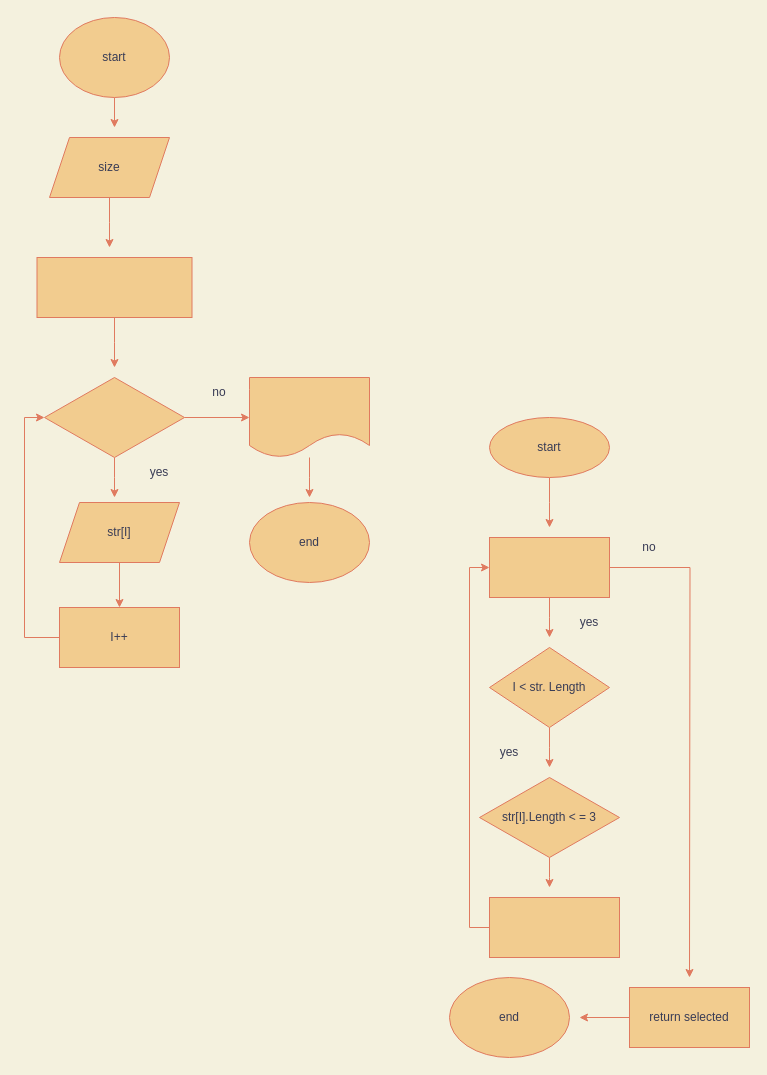
Some shapes in this 767 by 1075 pixel diagram are drawn without their labels. The box of each missing label's shape, as (x1, y1, x2, y2) in pixels:
I < str.Length: (44, 376, 184, 458)
I=0 string[ ] str = new string[size]: (36, 256, 192, 318)
selected[I] = str[I] I++: (488, 896, 620, 958)
str: (248, 376, 370, 458)
string[ ]selected=new string[str.Length] I=0: (488, 536, 610, 598)
